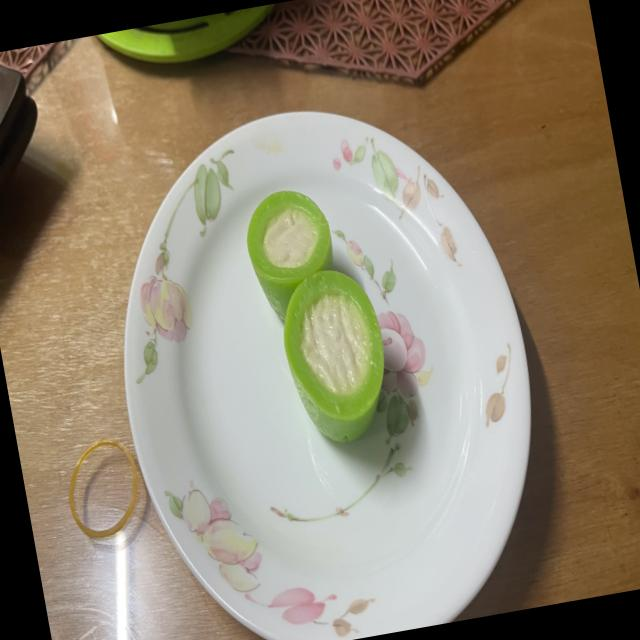nona-manis: (283, 269, 384, 442), (247, 190, 332, 318)
